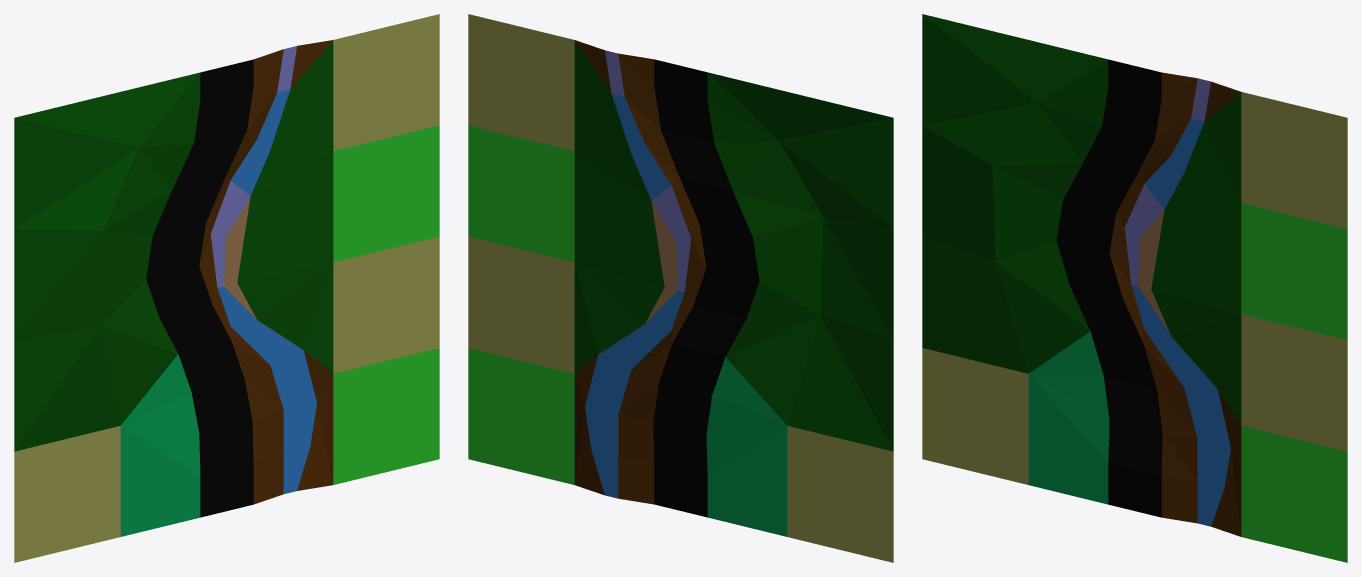
File: tiles1_41.obj
The picture shows the model from 3 angles, left to right: view 1: azimuth 30°, elevation 25°; view 2: azimuth 150°, elevation 25°; view 3: azimuth 330°, elevation 25°; orthographic projection.
Bounding box in the file's own units: 40.96 × 40.96 × 2.1.
